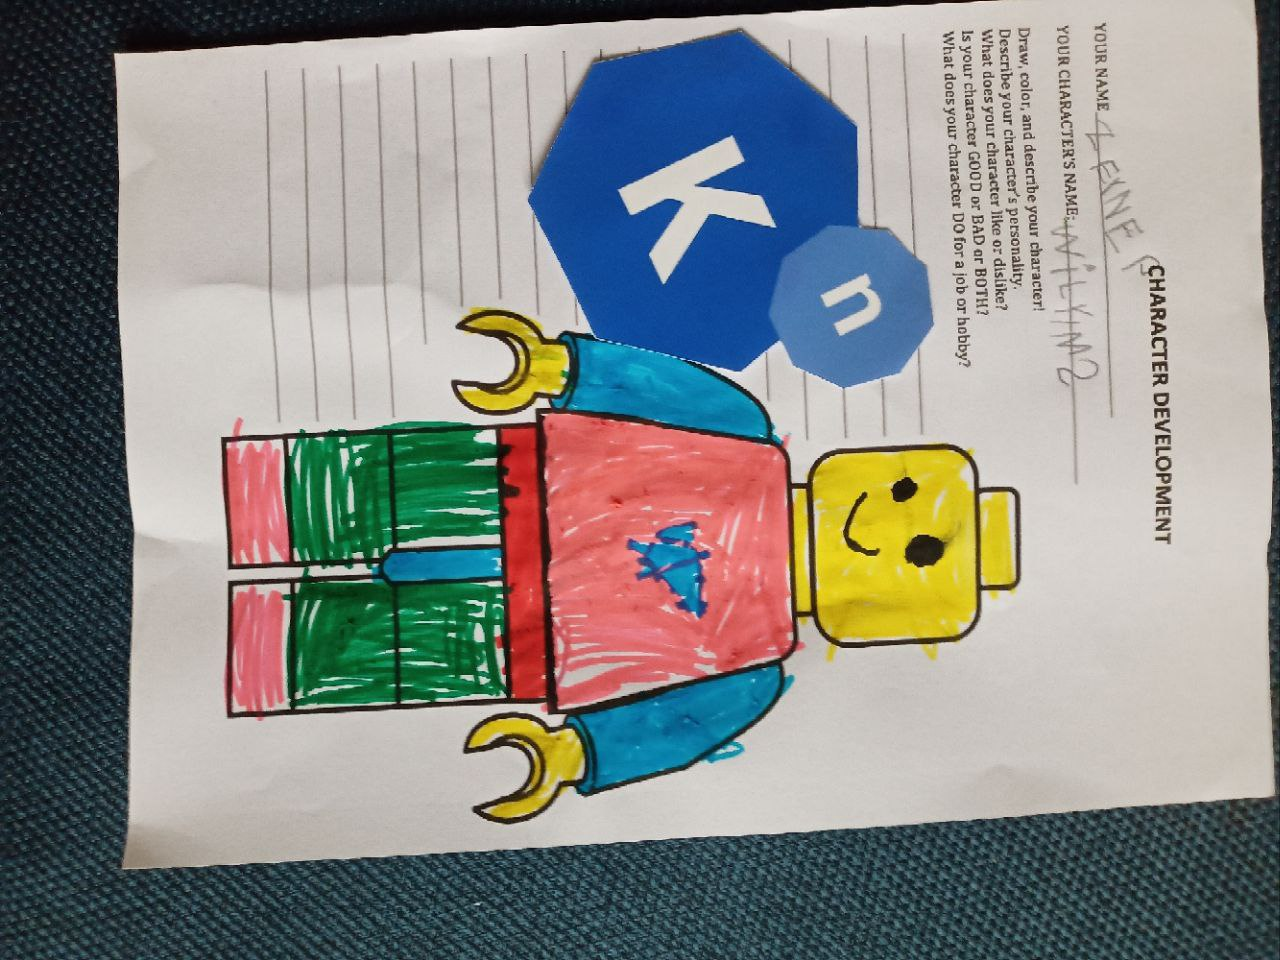knative: (526, 28, 936, 390)
